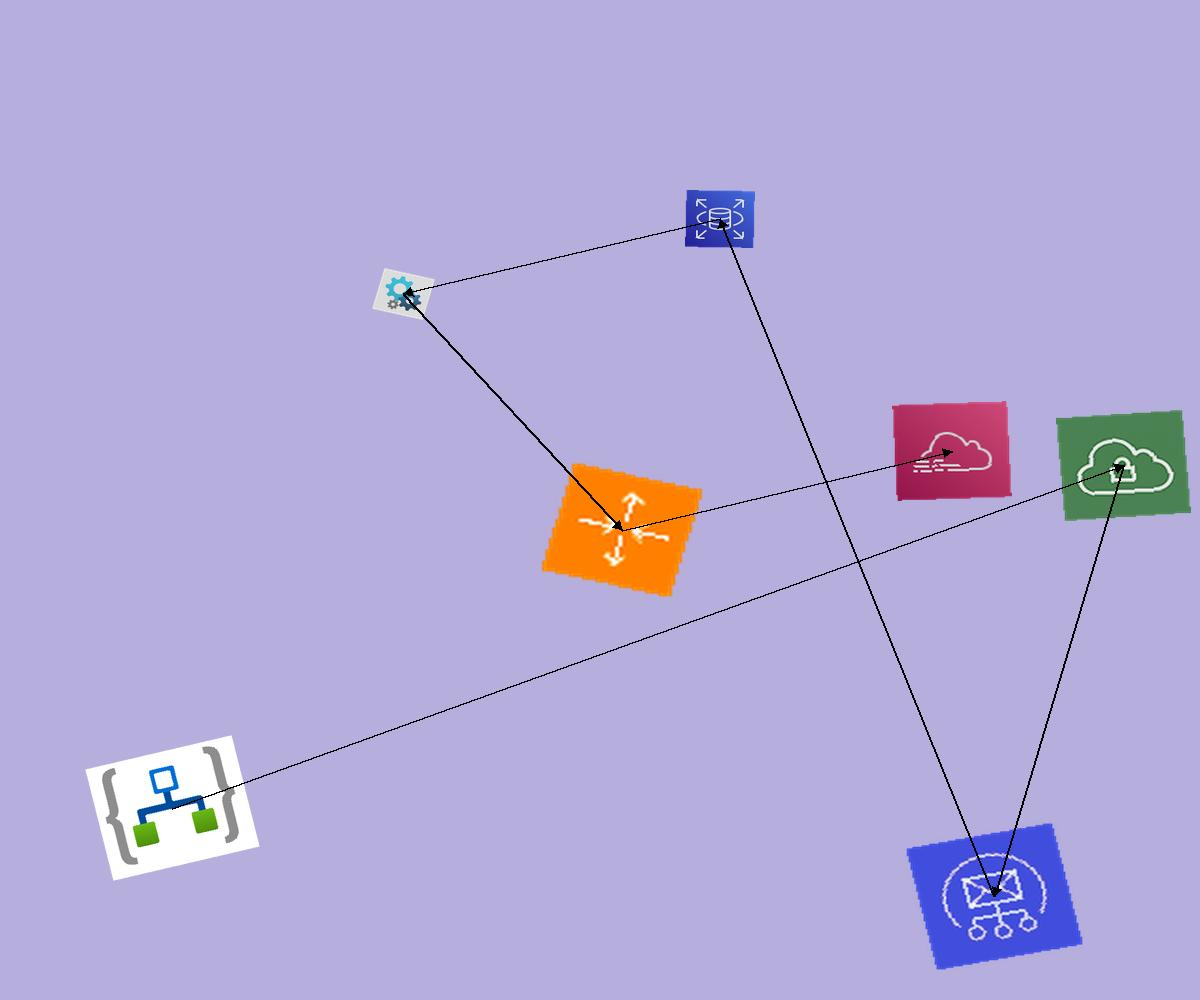AWS-CloudTrail: (892, 401, 1012, 501)
AWS-Private_vpc: (1056, 409, 1191, 522)
AWS-RDS: (685, 190, 755, 248)
AWS-Scaling-group: (539, 461, 705, 599)
AWS-Simple-Email-Service: (905, 822, 1084, 971)
Azure_api: (372, 268, 435, 320)
Azure_integration-204-Logic-Apps: (85, 735, 260, 881)
